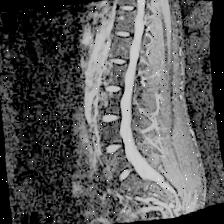disc: (114, 164, 140, 184), (114, 26, 138, 44), (119, 0, 142, 16)
hdisc: (96, 140, 128, 158), (99, 108, 126, 128), (107, 54, 132, 70), (104, 82, 129, 98)
